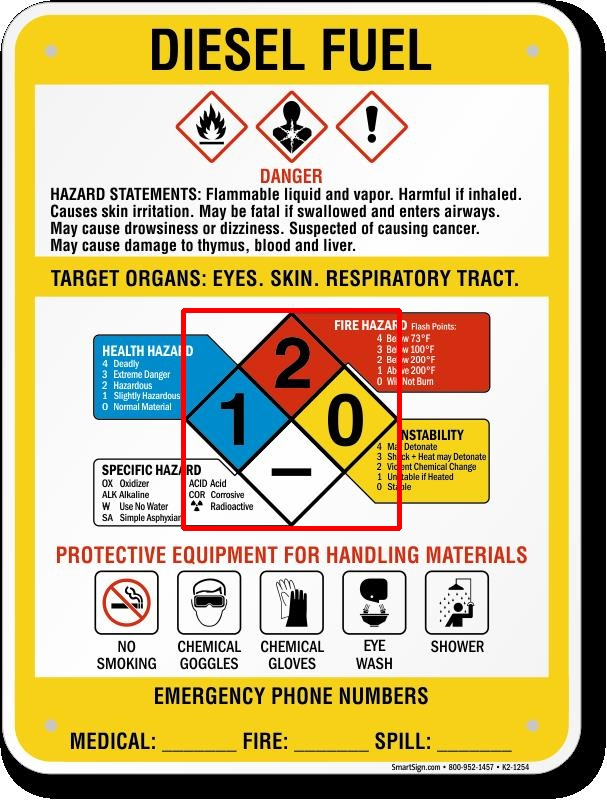nfpa: (183, 310, 399, 528)
